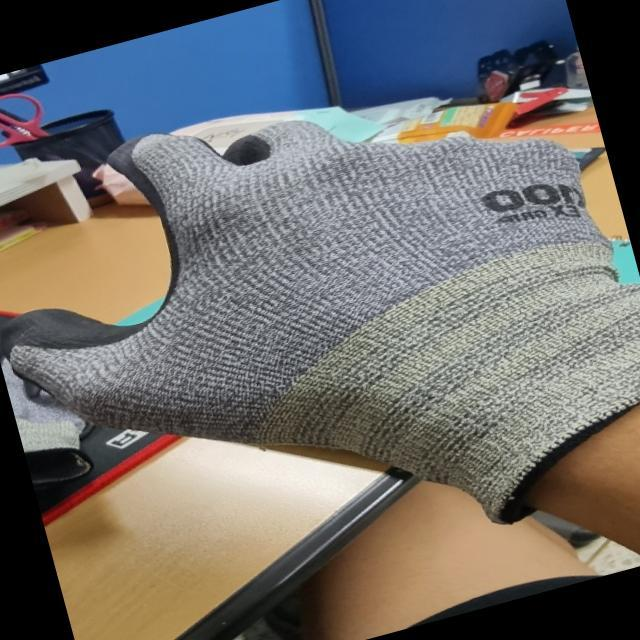Gloves: (0, 131, 637, 482)
